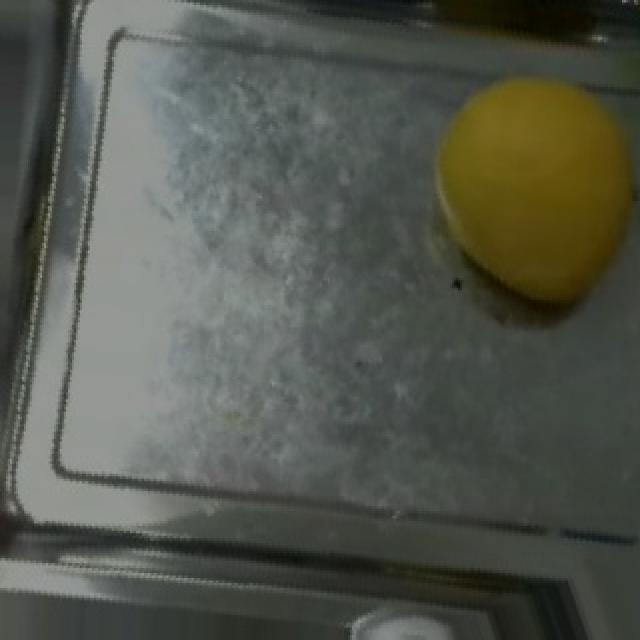fruit: (406, 42, 640, 340)
